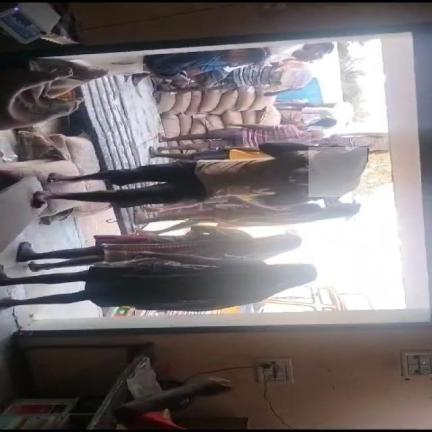Zone-Counting: (33, 144, 367, 207)
